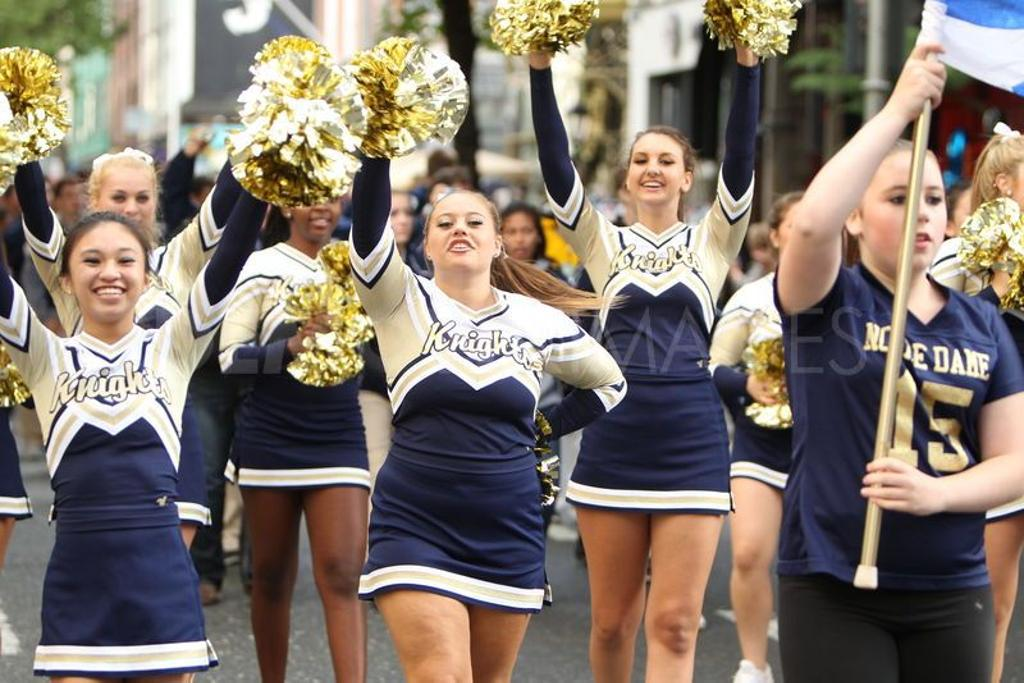face: (865, 153, 948, 276), (72, 223, 147, 318), (430, 194, 493, 275), (630, 133, 684, 205), (101, 167, 156, 232), (293, 180, 342, 245), (781, 210, 825, 271), (504, 206, 539, 259), (388, 192, 417, 240), (63, 186, 82, 213)
